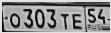license-plateSW: (2, 4, 110, 32)
